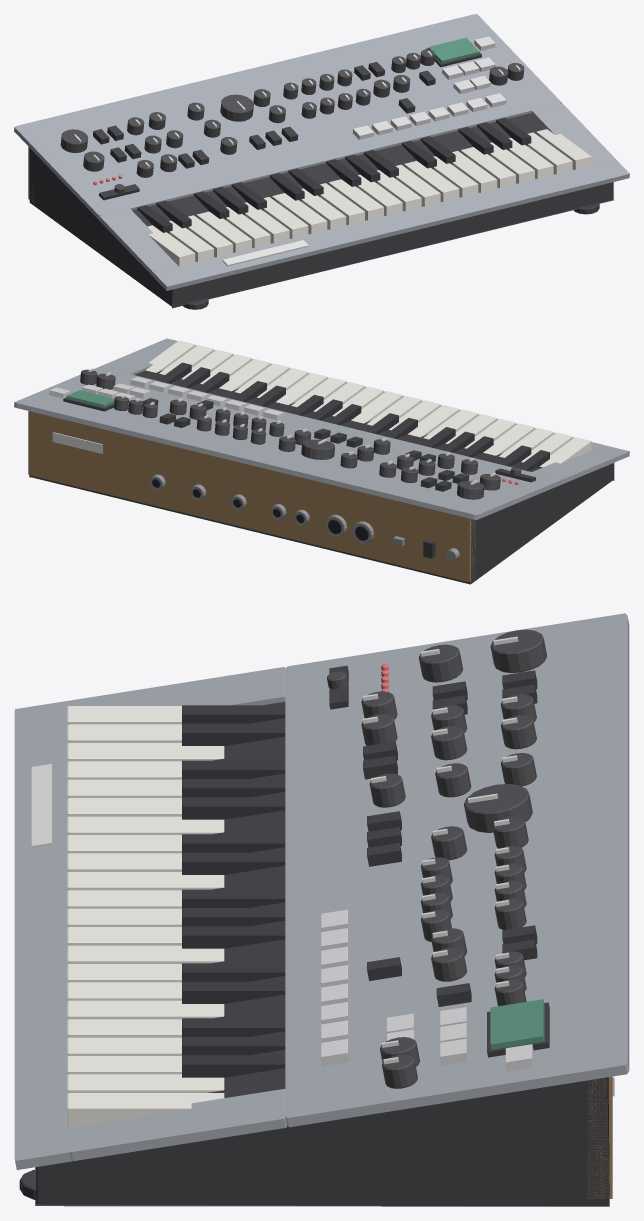
File: minilogue_v16.glb
3 renders of one model, top to bottom at view 1: azimuth 30°, elevation 25°; view 2: azimuth 150°, elevation 25°; view 3: azimuth 270°, elevation 25°, orthographic. The views are drawn at different scales.
Visible parts, largest first — view 1: Cube.041, Body, Cube.044, Cube.042, Cube.043, Cube.011, Cube.018, Cube.014, Cube.021, Cube.025, Cube.007, Cube.004 (+34 smaller); view 2: Cube, Cube.041, Body, Cube.042, Cube.043, Cube.004, Cube.021, Cube.007, Cube.011, Cube.014, Cube.018, Cube.025 (+35 smaller); view 3: Cube.041, Body, Cube.044, Cube.043, Cube.042, Cube.025, Cube.020, Cube.010, Cube.017, Cube.024, Cube.006, Cube.013 (+46 smaller).
Boxes of the visible parts, <box> form: Cube.041: <box>14,14,561,219</box>; Body: <box>29,113,614,308</box>; Cube.044: <box>153,159,629,290</box>; Cube.042: <box>99,208,177,276</box>; Cube.043: <box>531,103,615,165</box>; Cube.011: <box>272,193,327,234</box>; Cube.018: <box>404,161,459,202</box>; Cube.014: <box>329,179,383,220</box>; Cube.021: <box>461,147,515,188</box>; Cube.025: <box>536,129,591,169</box>; Cube.007: <box>196,211,251,252</box>; Cube.004: <box>147,225,195,266</box>; Cube: <box>28,411,475,582</box>; Cube.041: <box>14,367,561,519</box>; Body: <box>29,370,614,584</box>; Cube.042: <box>532,451,615,484</box>; Cube.043: <box>100,344,168,374</box>; Cube.004: <box>540,437,591,467</box>; Cube.021: <box>219,359,270,391</box>; Cube.007: <box>483,423,534,455</box>; Cube.011: <box>408,405,459,437</box>; Cube.014: <box>351,391,402,423</box>; Cube.018: <box>276,372,327,404</box>; Cube.025: <box>146,340,195,372</box>; Cube.041: <box>285,613,629,1127</box>; Body: <box>35,701,609,1206</box>; Cube.044: <box>14,700,71,1169</box>; Cube.043: <box>70,1089,286,1161</box>; Cube.042: <box>70,667,285,705</box>; Cube.025: <box>67,1093,224,1127</box>; Cube.020: <box>67,1000,224,1019</box>; Cube.010: <box>67,816,224,834</box>; Cube.017: <box>67,945,224,963</box>; Cube.024: <box>67,1074,224,1092</box>; Cube.006: <box>67,743,224,761</box>; Cube.013: <box>67,872,224,890</box>.
Bounding box in the file's own units: 5.14 × 0.897 × 2.95.
